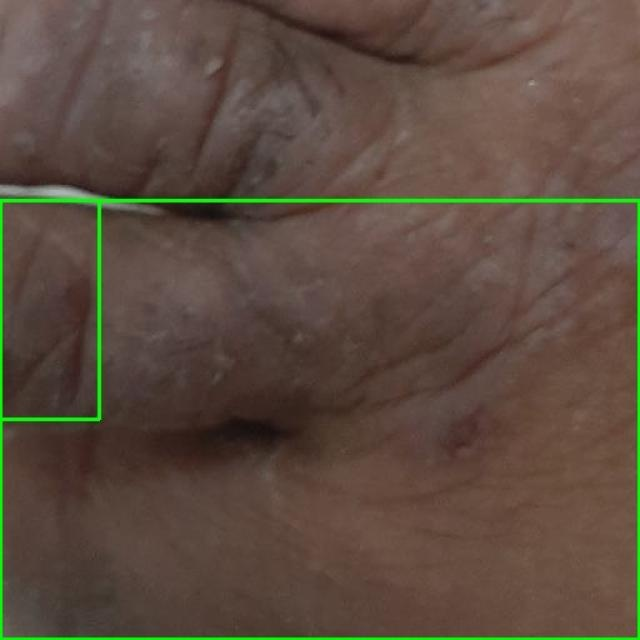Eczema: (0, 200, 639, 639), (0, 200, 99, 419)
